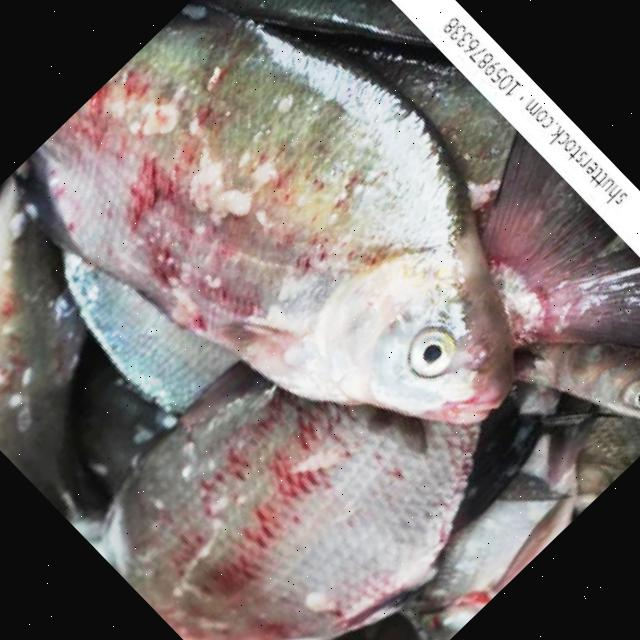Epizootic Ulcerative Syndrome -EUS-: (34, 16, 513, 422), (108, 370, 489, 640)
